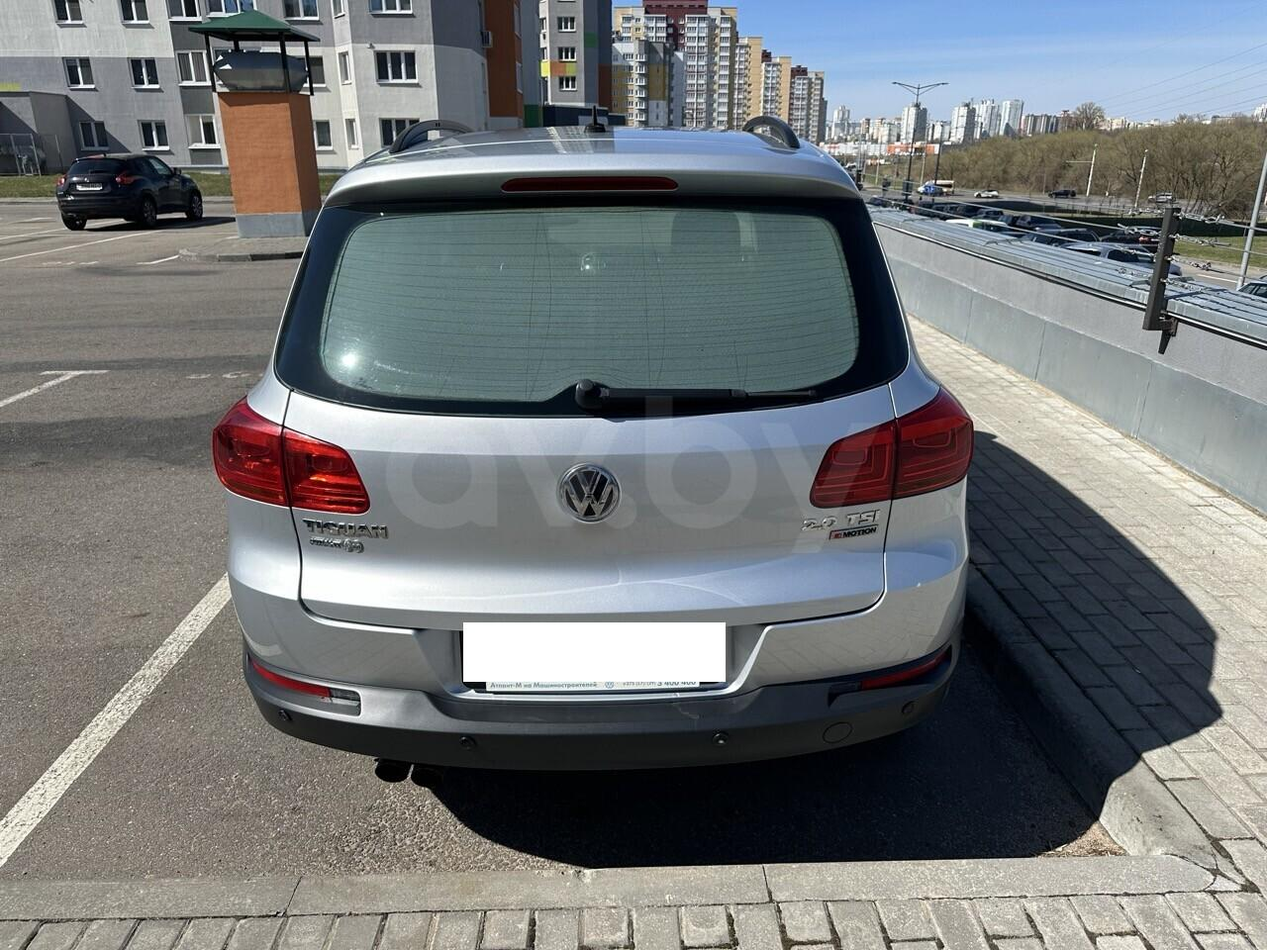Tiguan_2011-2018: (212, 124, 974, 777)
